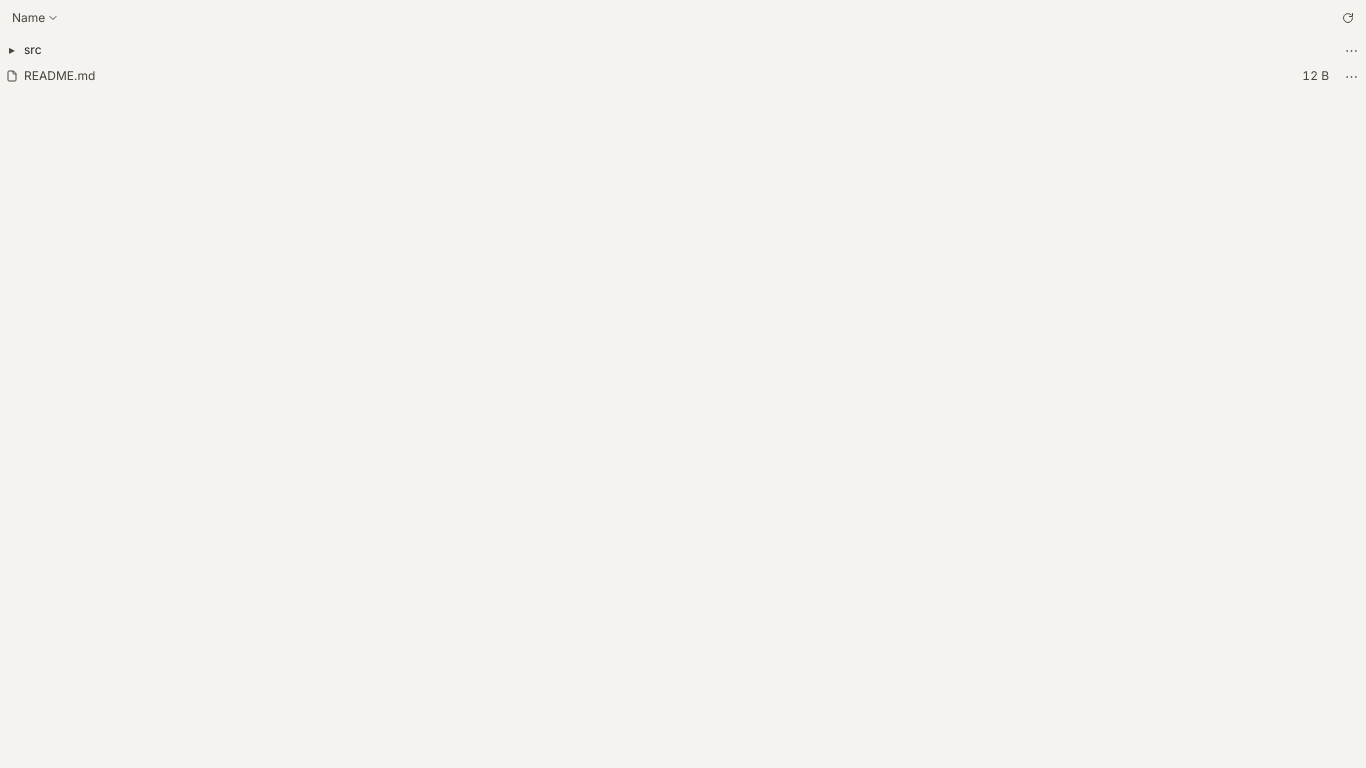
FilesFileActions › asks through our dialog, and a No stops everything before the wire
The image size is (1366, 768).
Click the 2nd button with class "workspace-tree-menu-trigger" at (1352, 76), box [1337,64,1365,88]
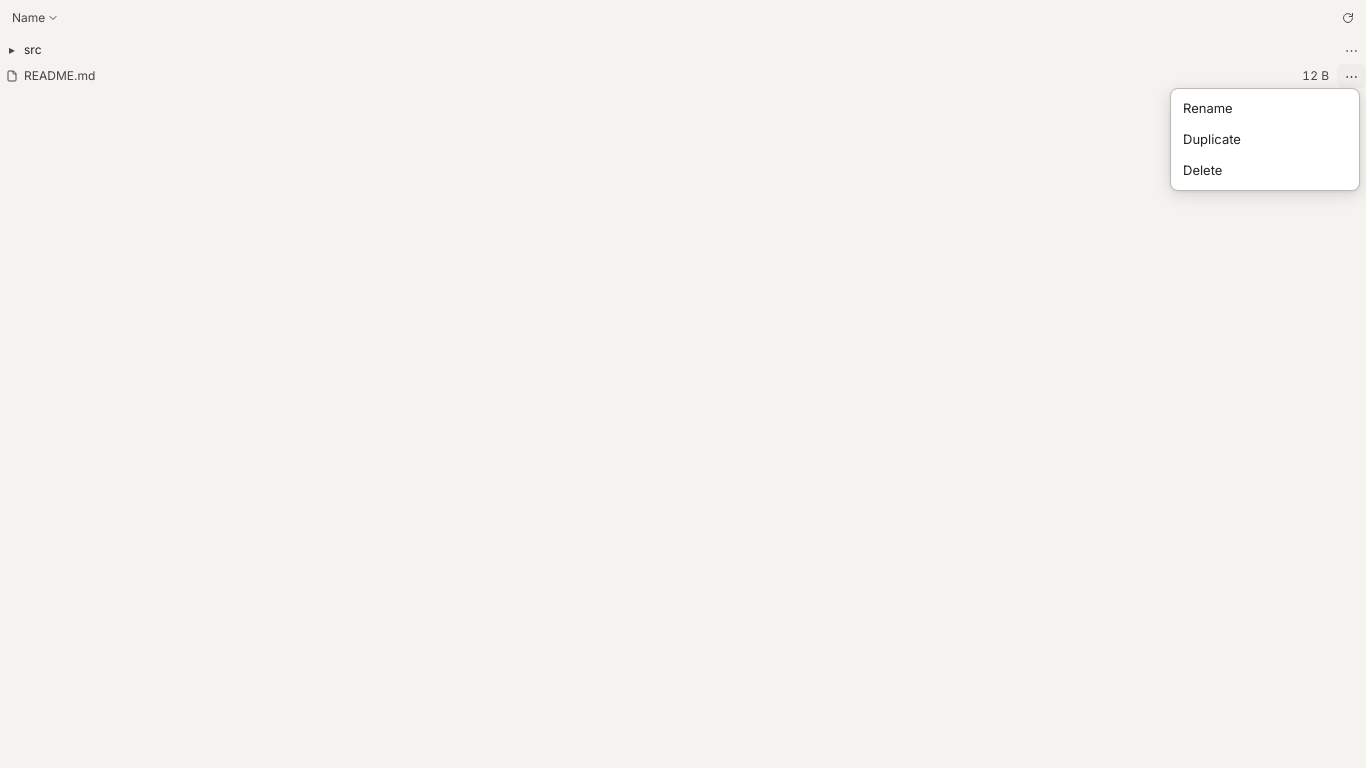
Click the menu item "Delete" at (1265, 170), box [1175,155,1355,186]
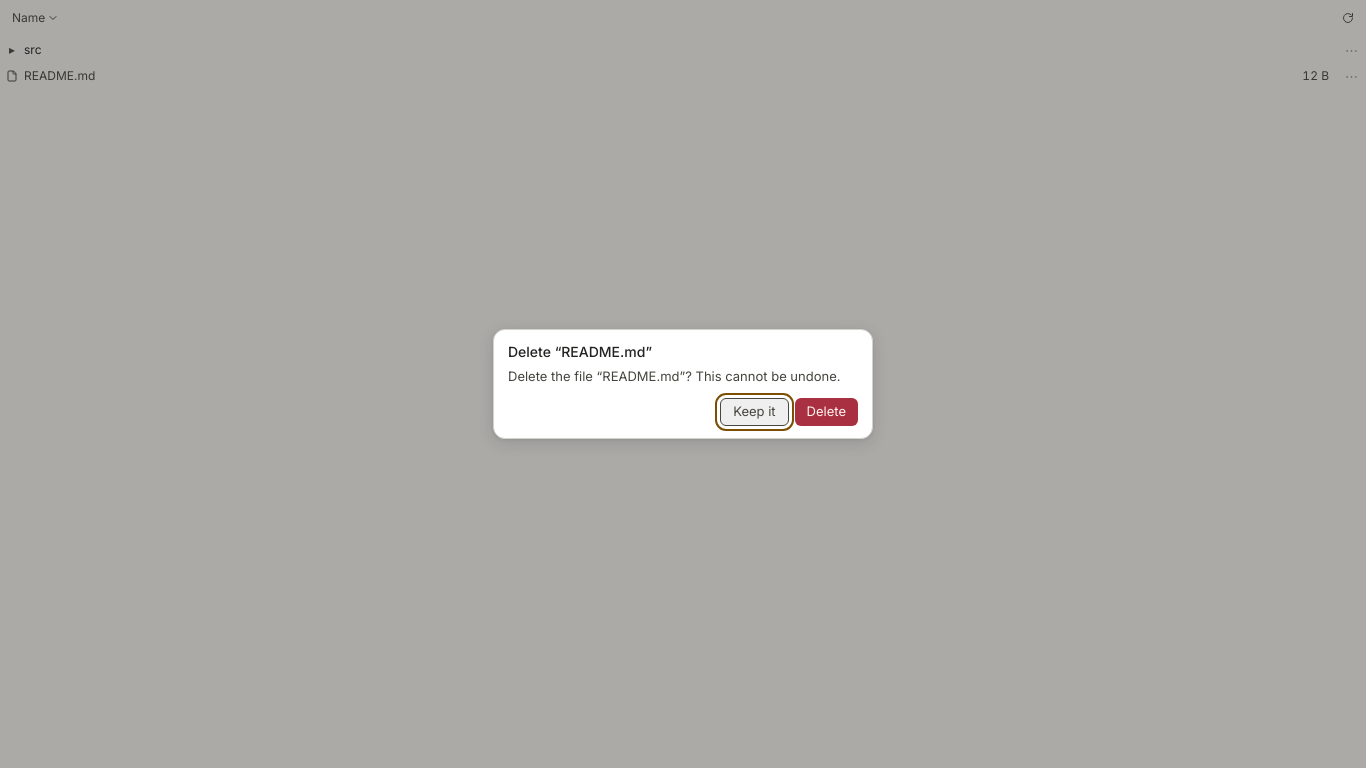
Expected: the text with class "confirm-dialog-title" reads "Delete “README.md”", [508,343,652,360]
Expected: the text with class "confirm-dialog-body" shows "README.md", [508,368,840,384]
Expected: the text with class "confirm-dialog-body" shows "This cannot be undone.", [508,368,840,384]
Click the button with class "confirm-dialog-cancel" at (754, 412), box [720,398,789,426]
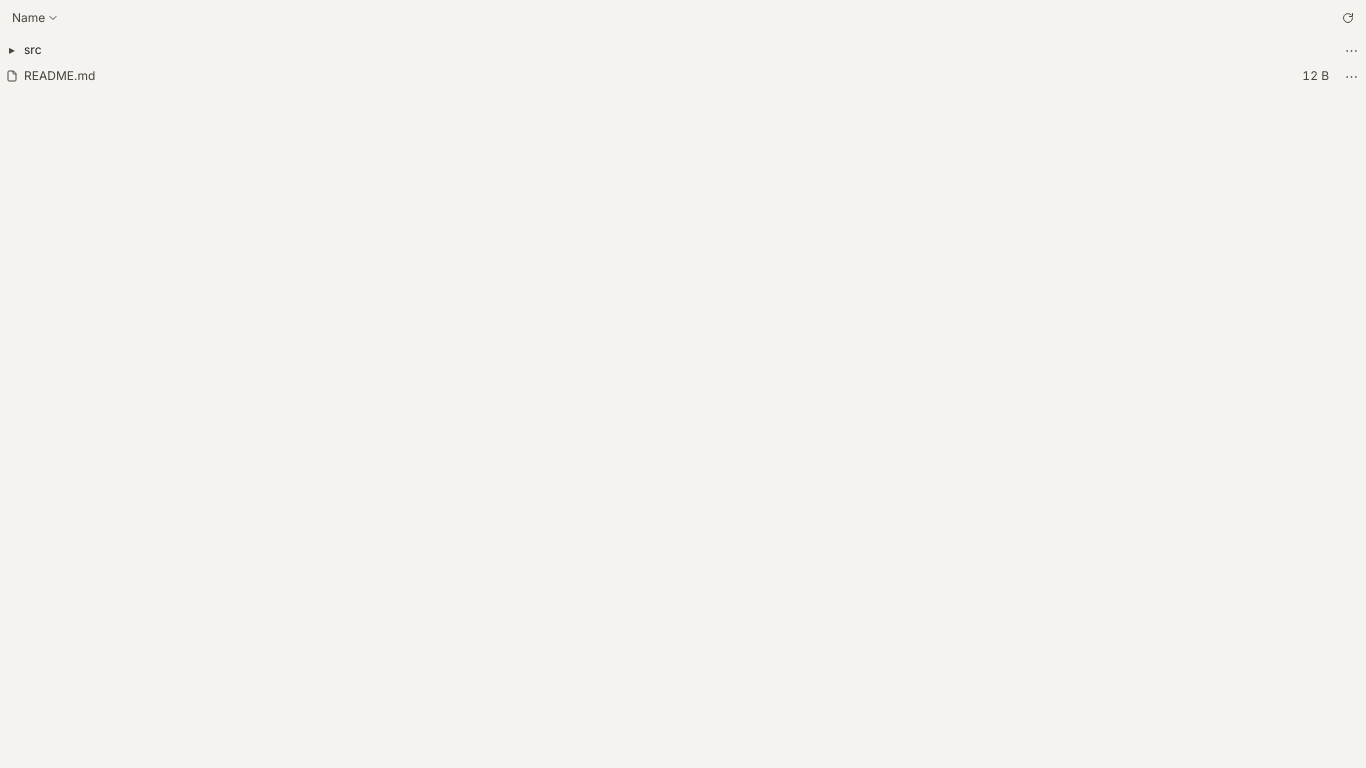
Expected: the text "README.md" is shown, [24,67,95,85]
Expected: the dialog with class "confirm-dialog" is gone
